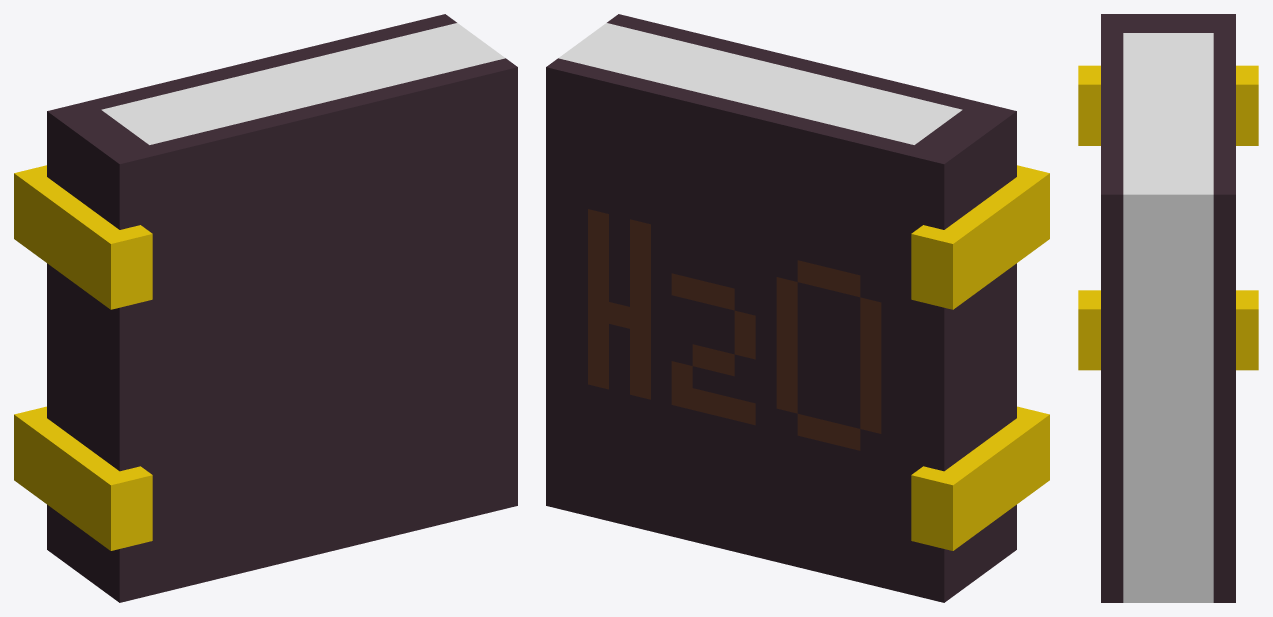
The model's file is SchoolPack-70-book.obj.
3 views of the same model, side by side, from view 1: azimuth 30°, elevation 25°; view 2: azimuth 150°, elevation 25°; view 3: azimuth 270°, elevation 25° (orthographic). The views are drawn at different scales.
Visible parts, largest first — view 1: book; view 2: book; view 3: book.
Part boxes in pixels (bbox=[...]): book: bbox=[14, 14, 517, 602]; book: bbox=[546, 14, 1049, 602]; book: bbox=[1078, 14, 1258, 602].
Size of the model in its own units: 2 by 2 by 0.8.
Materials: 1 (1 with a texture image).
